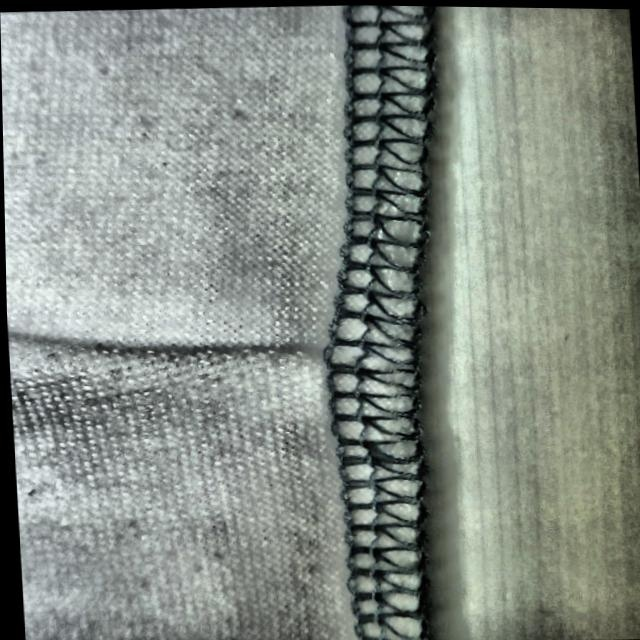seam: (73, 287, 435, 447)
